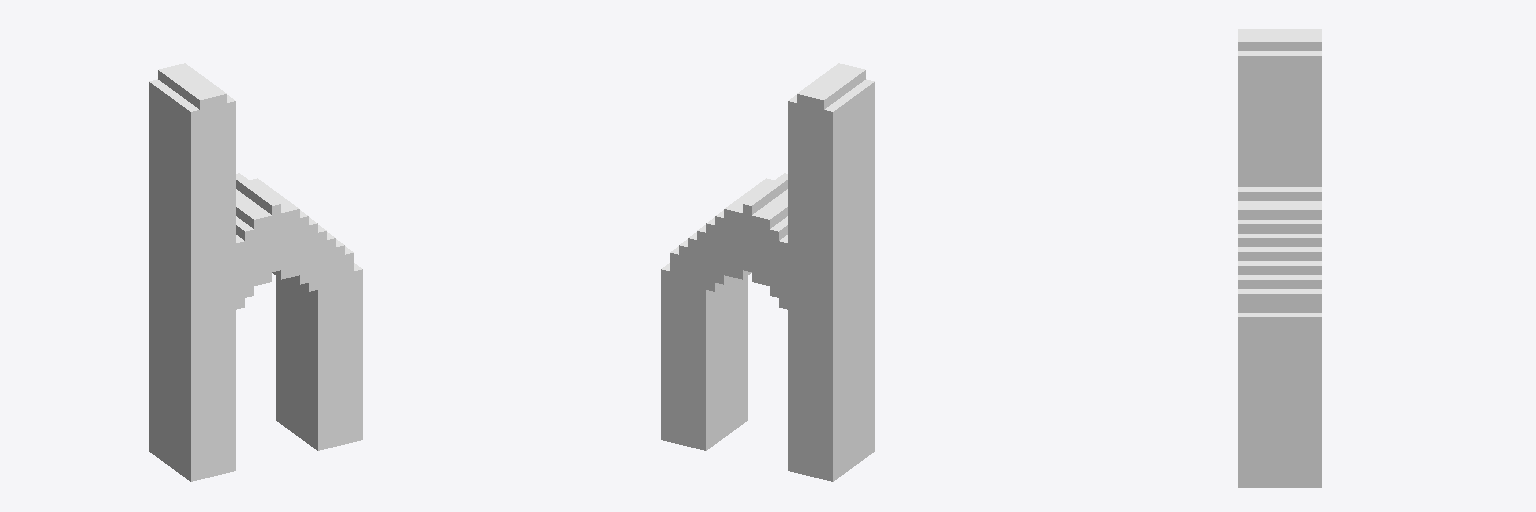
File: LetterH.obj
3 views of the same model, side by side, from view 1: azimuth 30°, elevation 25°; view 2: azimuth 150°, elevation 25°; view 3: azimuth 270°, elevation 25° (orthographic).
Parts seen in each view (by area): view 1: object 1; view 2: object 1; view 3: object 1.
Boxes of the visible parts, x1=… form: object 1: x1=149, y1=63, x2=362, y2=481; object 1: x1=661, y1=63, x2=874, y2=481; object 1: x1=1238, y1=29, x2=1321, y2=487.
Bounding box in the file's own units: 1.9 × 4 × 0.8.